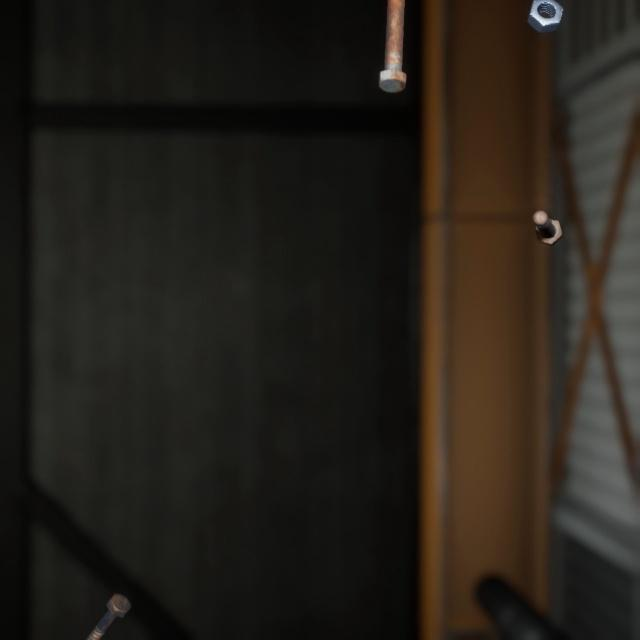bolt: (69, 565, 135, 640), (374, 0, 411, 90), (528, 190, 567, 234)
nut: (522, 0, 567, 30)
